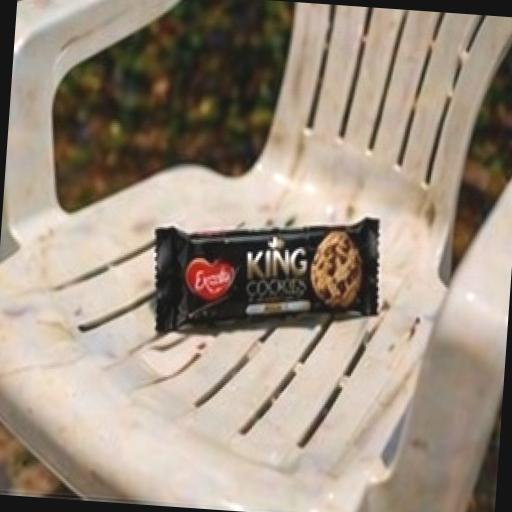king_cooking: (116, 186, 458, 392)
